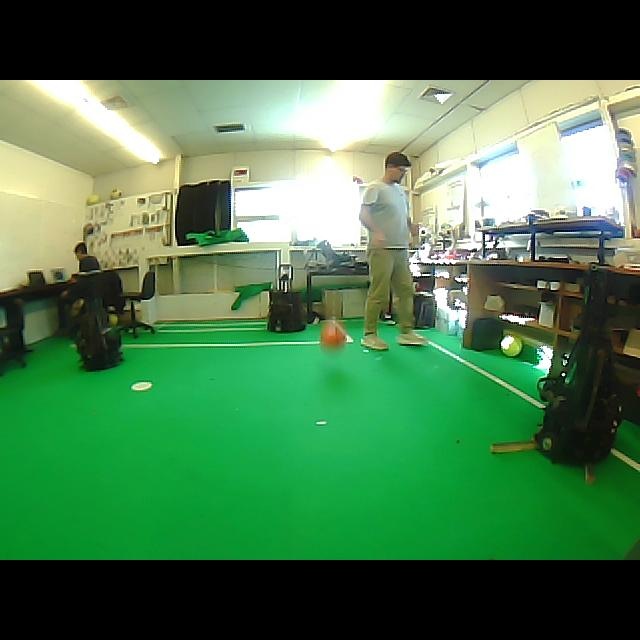ball: (321, 320, 345, 347), (501, 335, 522, 356), (86, 194, 100, 204), (109, 314, 118, 326), (110, 189, 121, 198)
robot: (535, 266, 621, 463), (78, 310, 122, 371), (268, 264, 305, 332)
